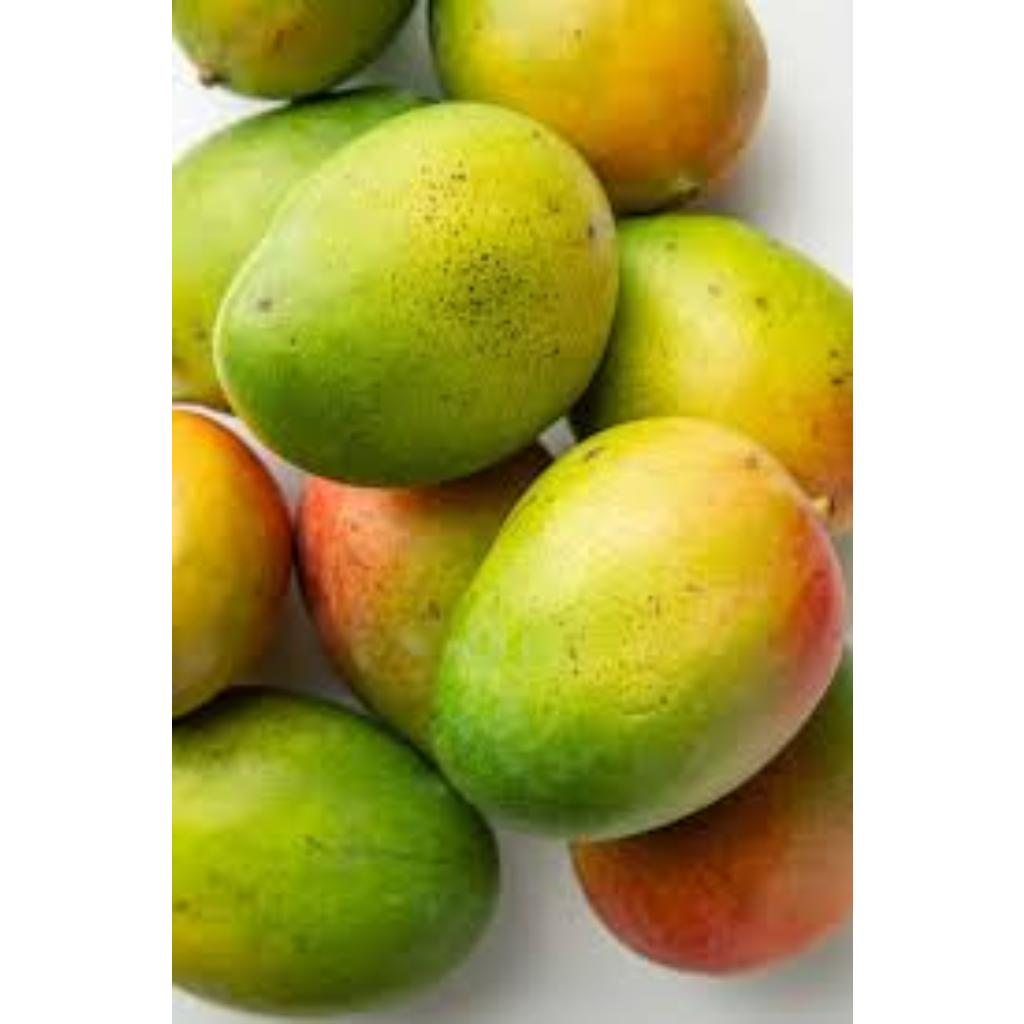mango: (212, 101, 618, 492), (429, 433, 844, 803), (555, 640, 852, 989), (172, 678, 491, 1001), (570, 203, 852, 542), (287, 442, 560, 760)
